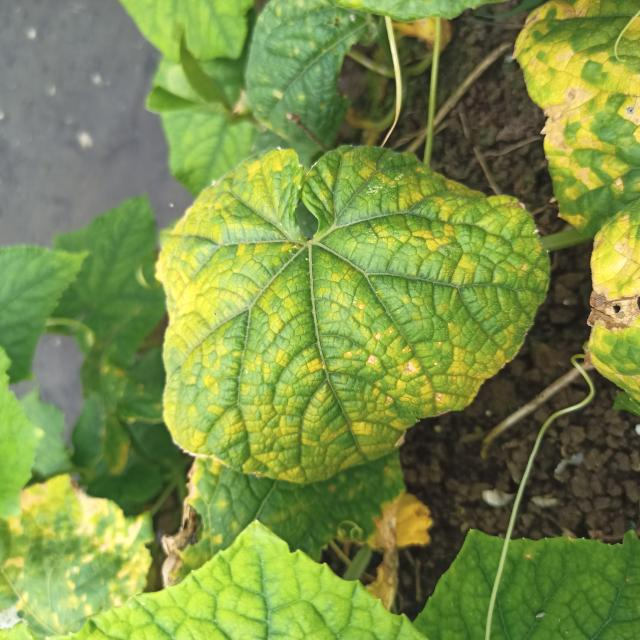disease_cucumber: (156, 154, 536, 477)
